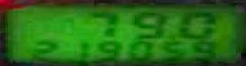-: (165, 33, 172, 39)
0: (175, 10, 215, 37), (124, 39, 152, 59)
1: (71, 39, 88, 59)
2: (25, 39, 58, 58)
5: (157, 39, 185, 59)
7: (86, 9, 116, 36)
9: (127, 10, 165, 37), (94, 39, 122, 59), (188, 39, 216, 59)
